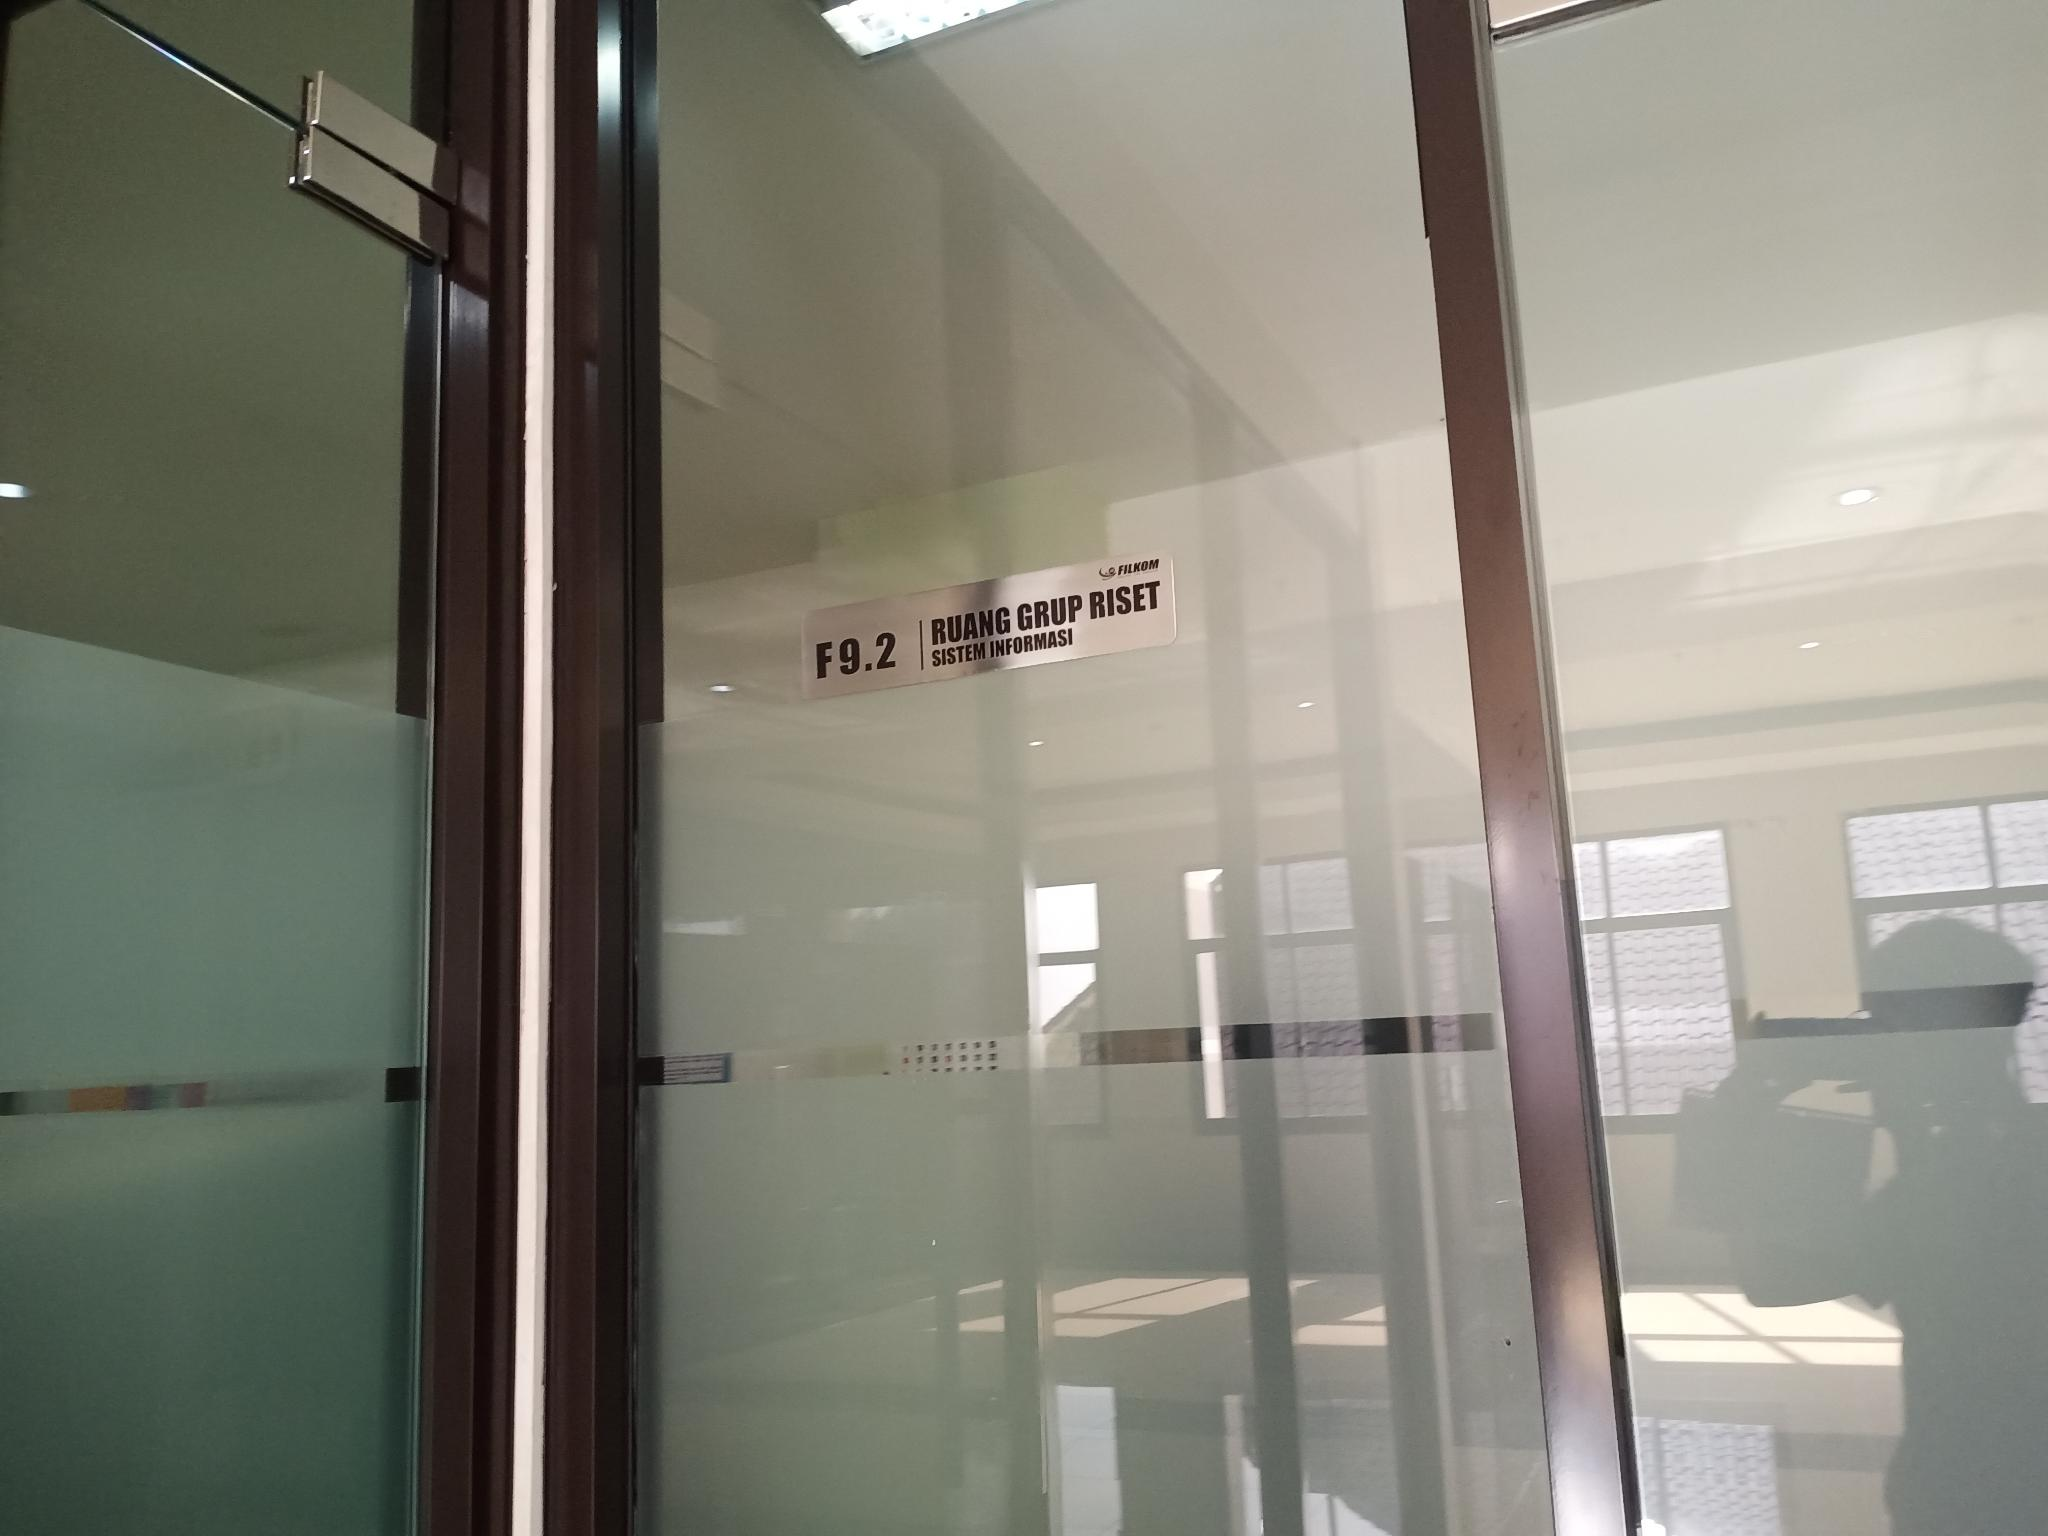plate: (800, 549, 1180, 707)
